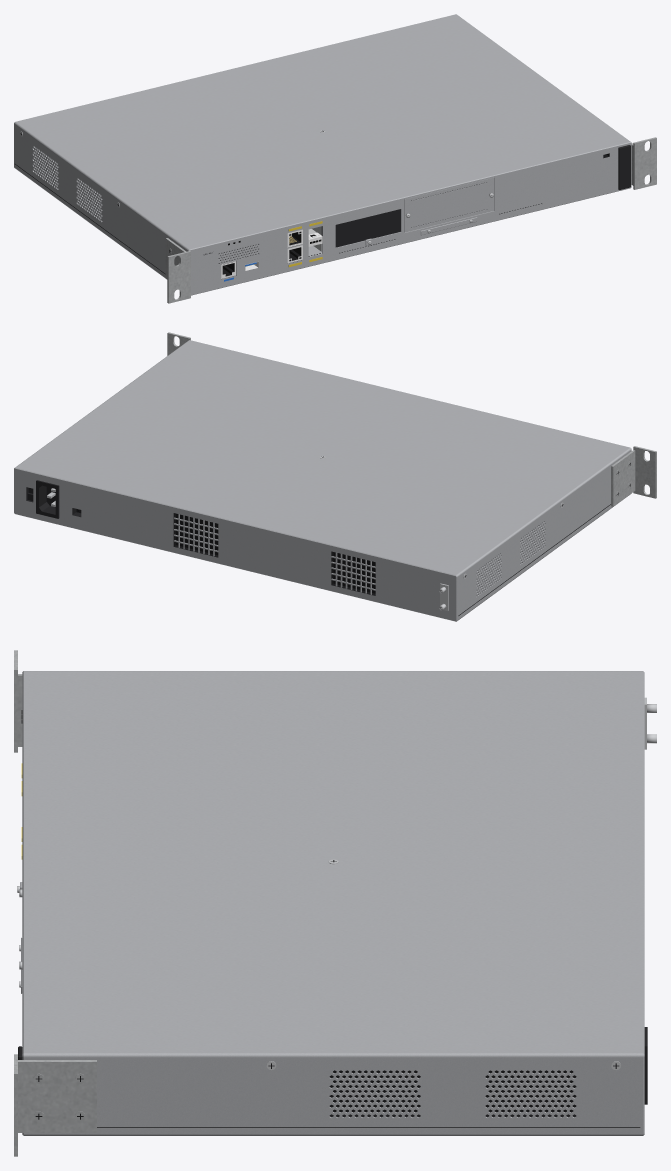
3 renders of one model, top to bottom at view 1: azimuth 30°, elevation 25°; view 2: azimuth 150°, elevation 25°; view 3: azimuth 270°, elevation 25°, orthographic. The views are drawn at different scales.
Visible parts, largest first — view 1: Shell, empty:NIM 1, Rack_Ears, empty:PIM 1; view 2: Shell, Rack_Ears; view 3: Shell, Rack_Ears.
Part boxes in pixels (bbox=[...]): Shell: bbox=[14, 14, 631, 295]; empty:NIM 1: bbox=[404, 177, 493, 232]; Rack_Ears: bbox=[165, 137, 656, 303]; empty:PIM 1: bbox=[335, 209, 400, 247]; Shell: bbox=[14, 340, 631, 621]; Rack_Ears: bbox=[167, 332, 656, 506]; Shell: bbox=[18, 671, 656, 1135]; Rack_Ears: bbox=[14, 650, 96, 1156].
Size of the model in its own units: 0.4826 by 0.0445 by 0.3097.
17 materials, 2 textured.
